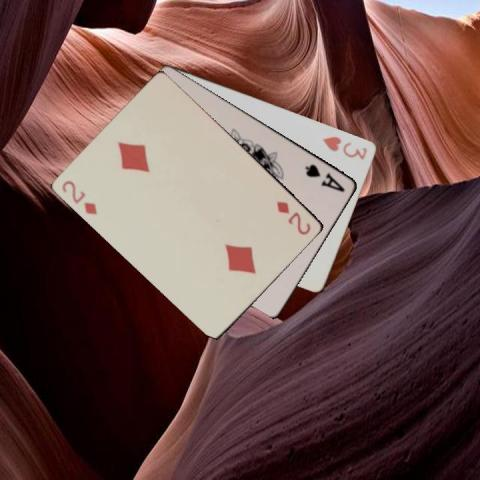2d: (273, 198, 313, 237), (60, 177, 100, 216)
3h: (320, 133, 369, 161)
As: (302, 161, 347, 193)
